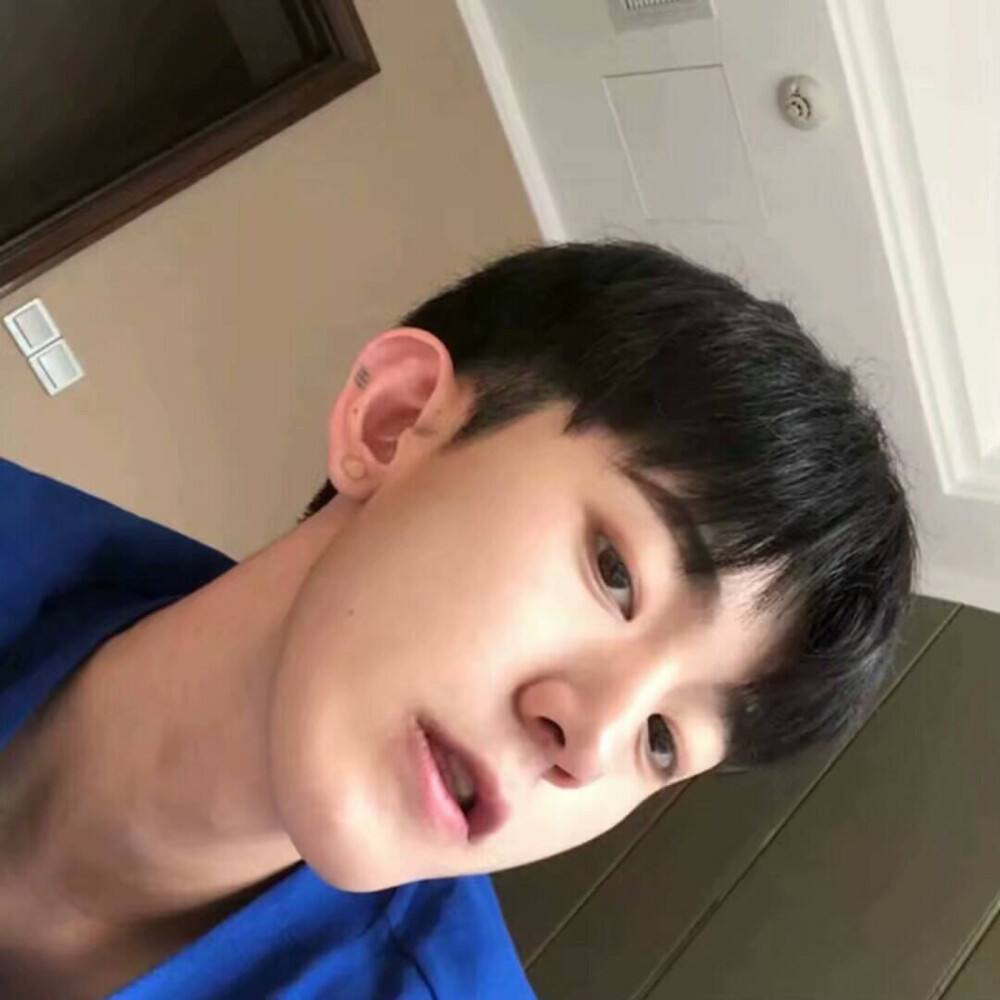person: (270, 213, 760, 979)
